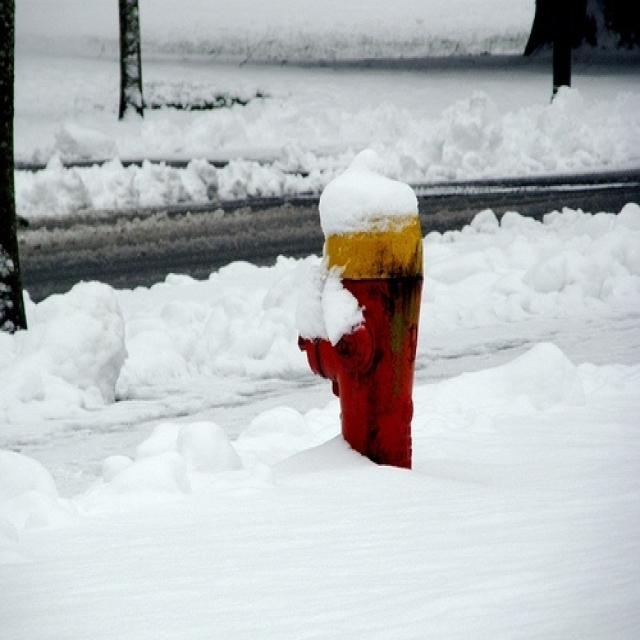fire_hydrant: (304, 146, 450, 485)
